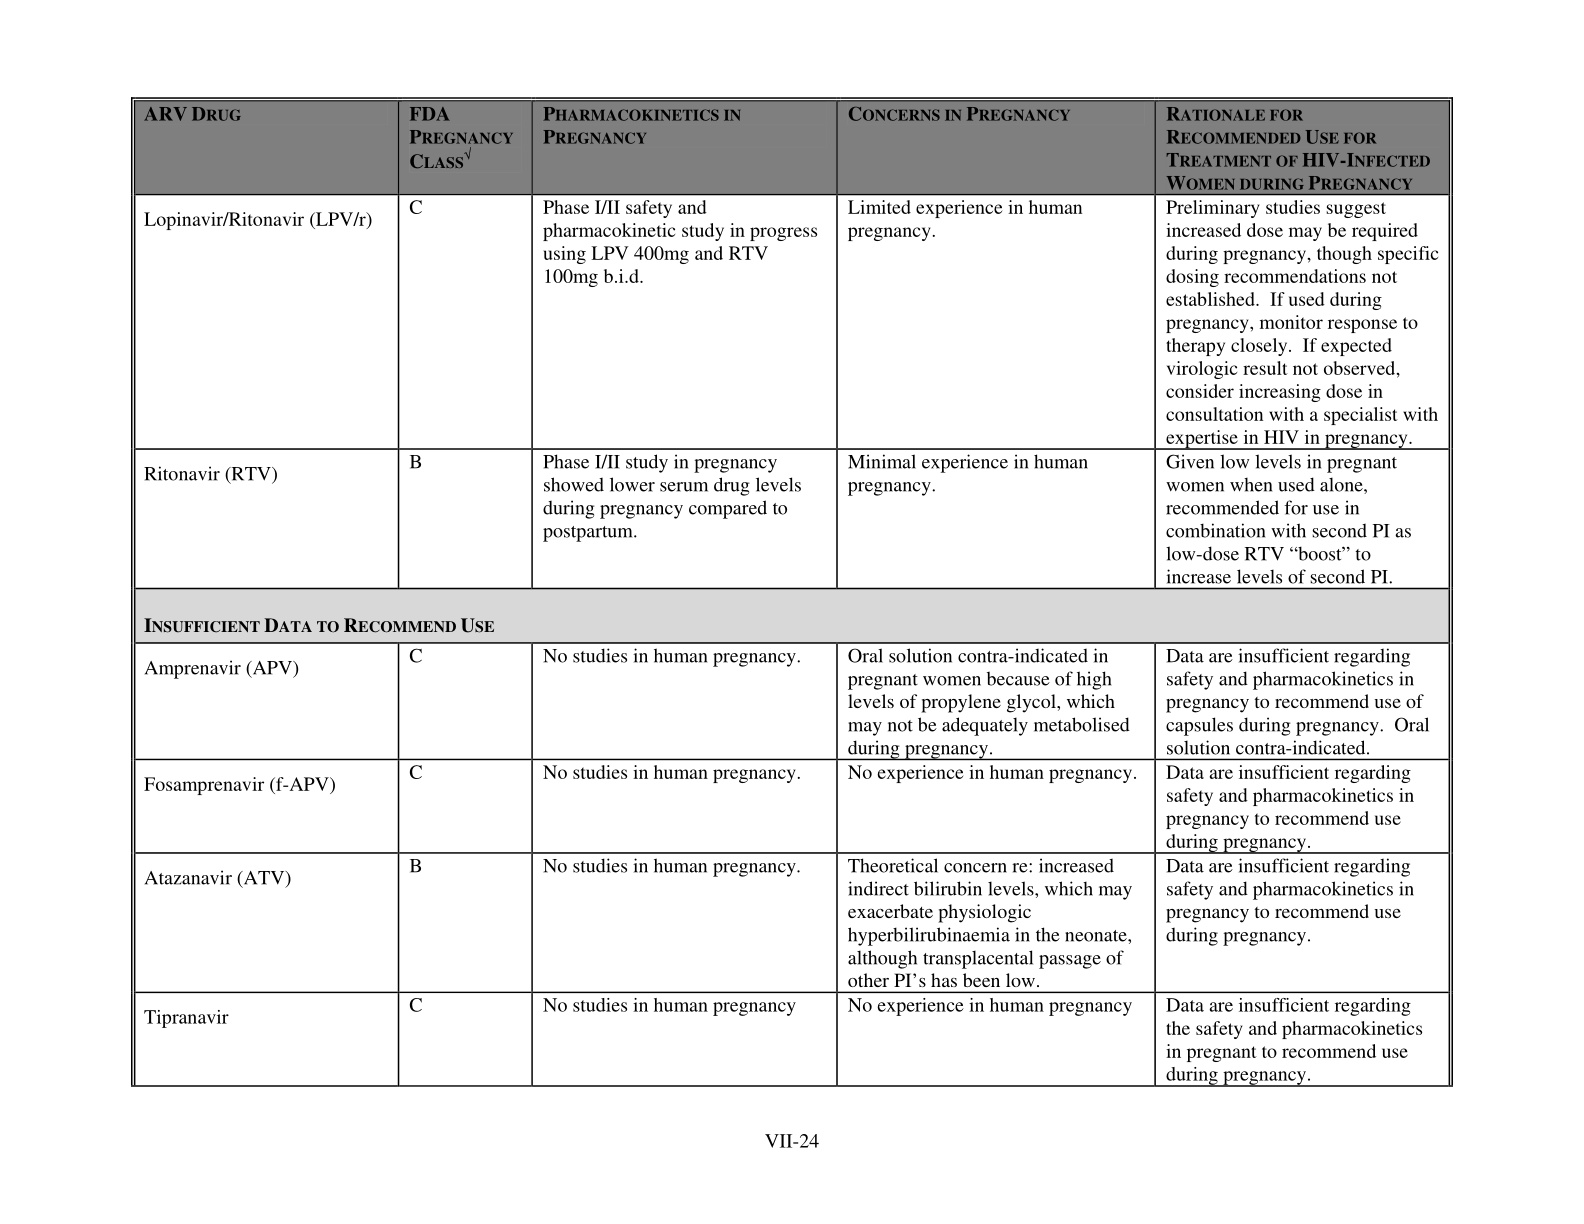merged_cells: (130, 96, 1454, 1088)
